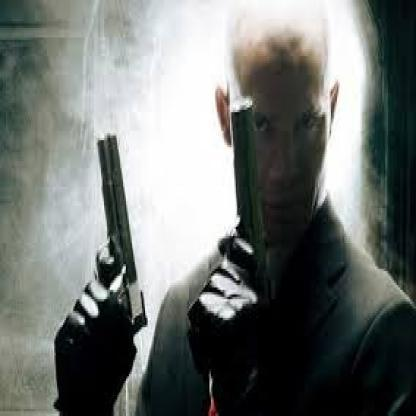Pistol: (76, 126, 146, 343)
